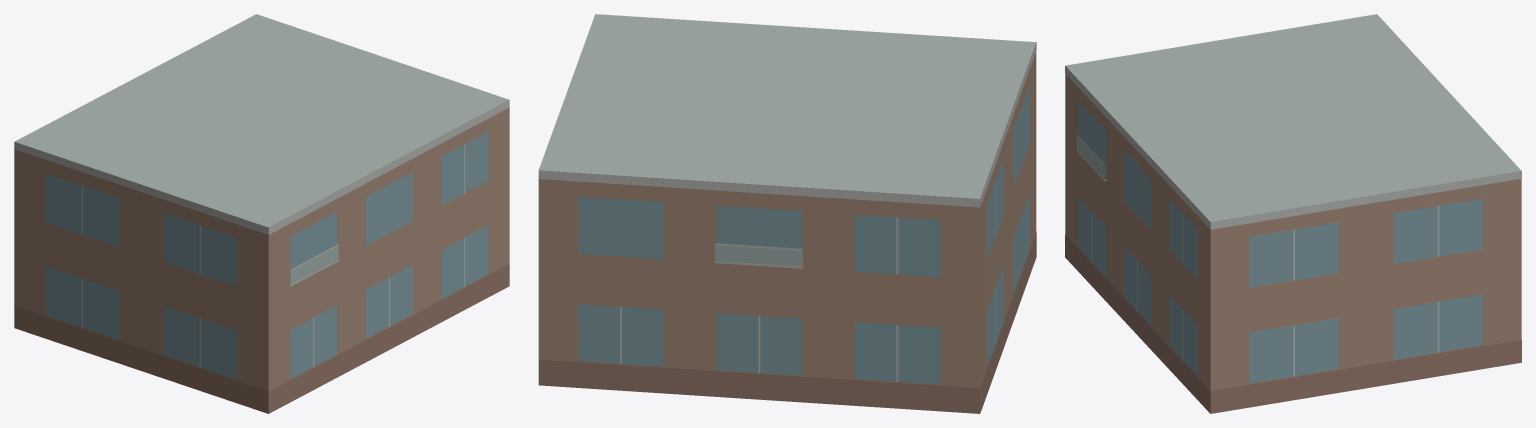
The model's file is survey-upis-32847961.glb.
3 renders of one model, left to right at view 1: azimuth 30°, elevation 25°; view 2: azimuth 150°, elevation 25°; view 3: azimuth 270°, elevation 25°, orthographic. The views are drawn at different scales.
Visible parts, largest first — view 1: survey-upis-32847961.tmp; view 2: survey-upis-32847961.tmp; view 3: survey-upis-32847961.tmp.
Boxes of the visible parts, x1,y1,x2,y2 form: survey-upis-32847961.tmp: [14, 14, 509, 413]; survey-upis-32847961.tmp: [538, 14, 1036, 413]; survey-upis-32847961.tmp: [1065, 14, 1521, 413].
Size of the model in its own units: 14.21 by 6.1 by 13.18.
